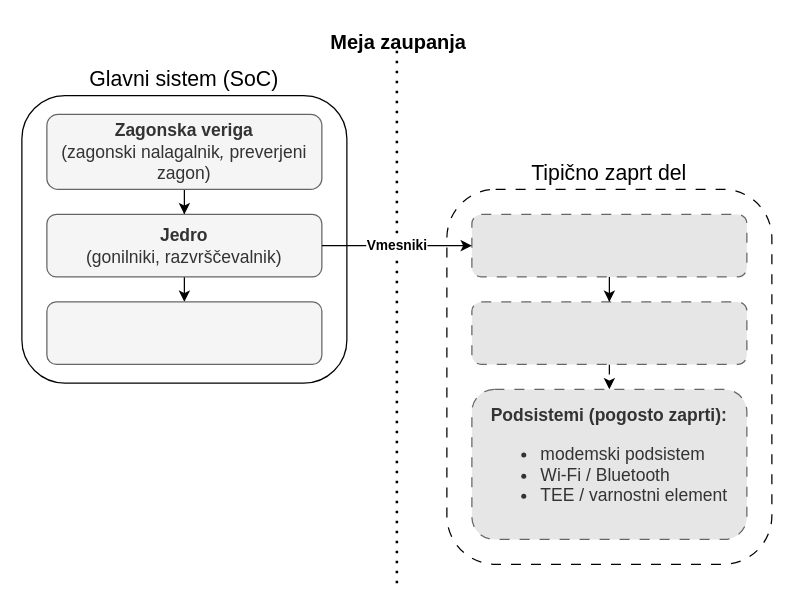
Image size: 794x606. Some labels were removed from this diagram. Here are the shapes that lost their labels. From the top down, the box of each, then its label:
(471, 213, 747, 277): Dobaviteljski sklad ( HAL , knjižnice)
(46, 301, 322, 364): Uporabniški prostor (storitve, knjižnice, aplikacije)
(471, 301, 747, 364): Strojna programska oprema (binarni dodatki)
